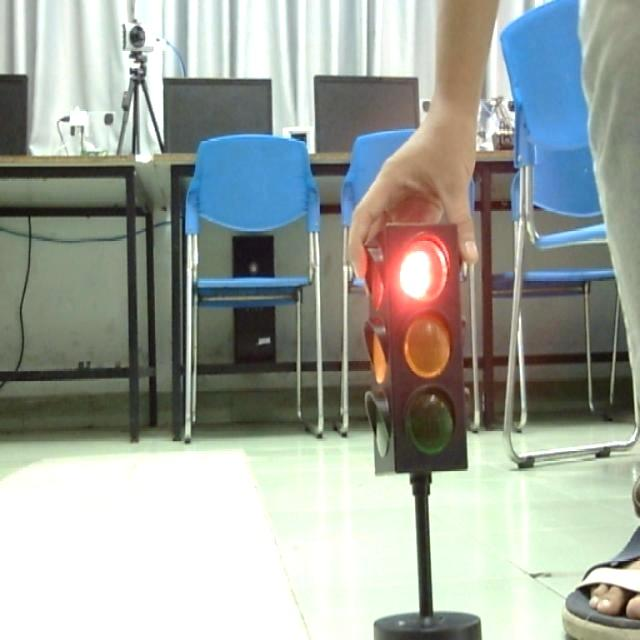Red: (368, 218, 476, 480)
